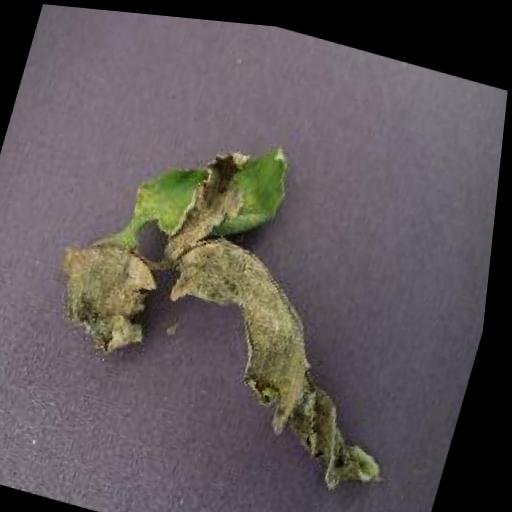Late Blight: (23, 95, 465, 498)
